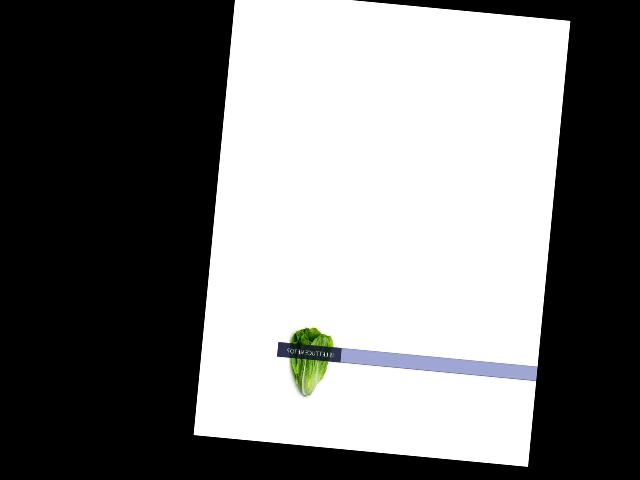lettuce: (281, 325, 336, 404)
